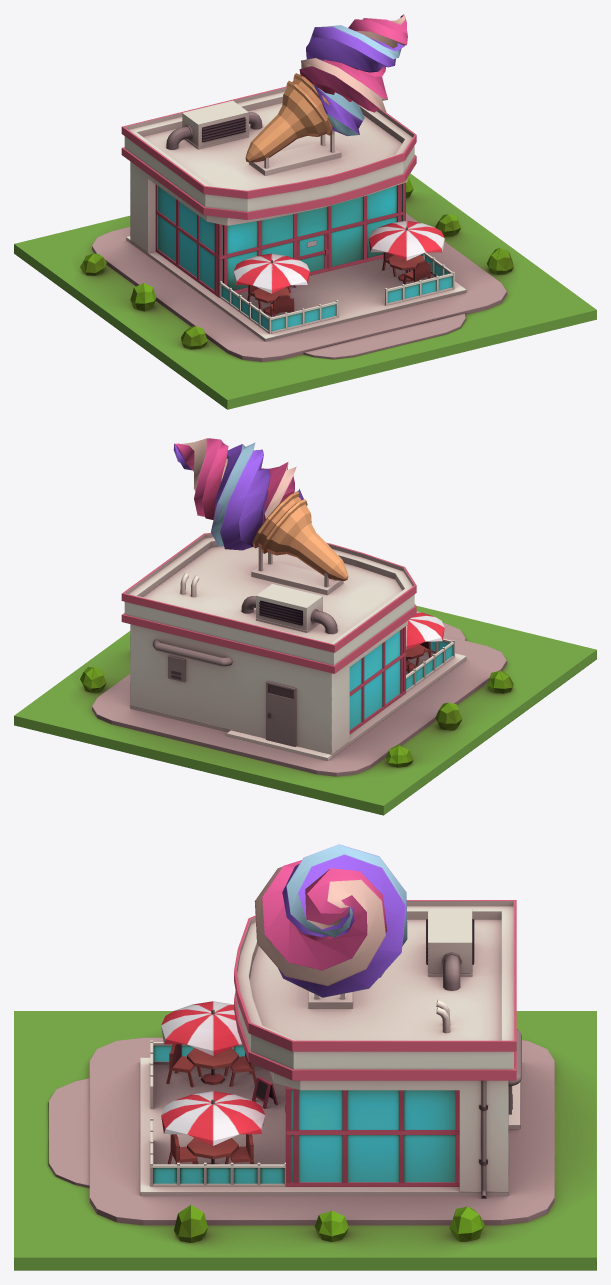
The picture shows the model from 3 angles, top to bottom: view 1: azimuth 30°, elevation 25°; view 2: azimuth 150°, elevation 25°; view 3: azimuth 270°, elevation 25°; orthographic projection. The views are drawn at different scales.
Visible parts, largest first — view 1: ice_cream_shop_building, ice_cream_road, ice_cream_shop_windows; view 2: ice_cream_shop_building, ice_cream_road, ice_cream_shop_windows; view 3: ice_cream_road, ice_cream_shop_building, ice_cream_shop_windows.
Part boxes in pixels (<box>): ice_cream_shop_building: <box>80,14,513,349</box>; ice_cream_road: <box>14,173,596,409</box>; ice_cream_shop_windows: <box>158,183,452,331</box>; ice_cream_shop_building: <box>80,438,513,767</box>; ice_cream_road: <box>14,605,596,815</box>; ice_cream_shop_windows: <box>349,628,452,730</box>; ice_cream_road: <box>14,1011,596,1270</box>; ice_cream_shop_building: <box>150,844,521,1242</box>; ice_cream_shop_windows: <box>153,1045,455,1183</box>.
Bounding box in the file's own units: 10 × 6.24 × 10.
Materials: 3 (3 with a texture image).
